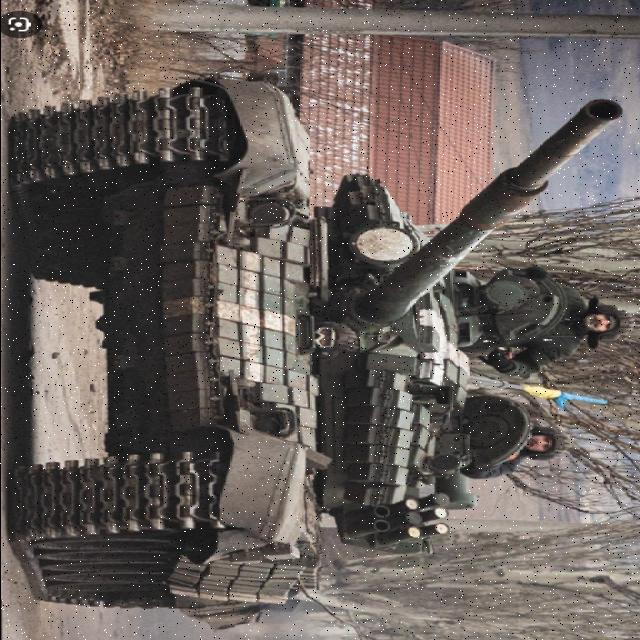TANK: (6, 76, 626, 612)
